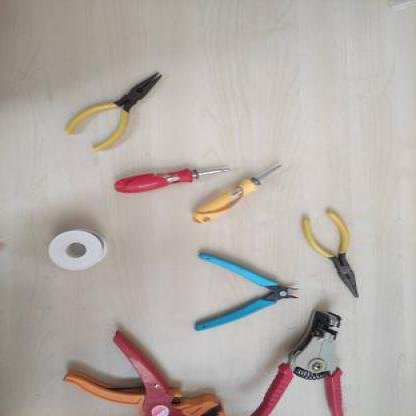Screwdriver: (184, 161, 282, 225), (107, 157, 233, 196)
